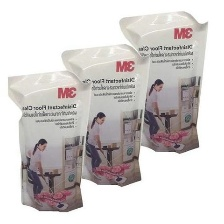cleaning_solution: (57, 40, 154, 190), (116, 9, 211, 157), (3, 68, 96, 214)
